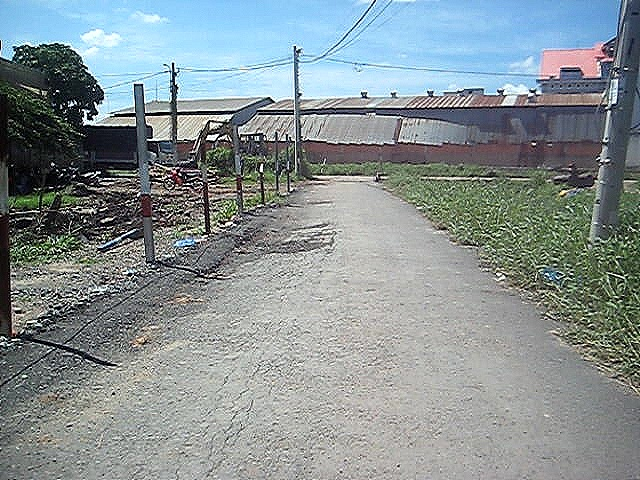hole: (196, 219, 338, 283)
